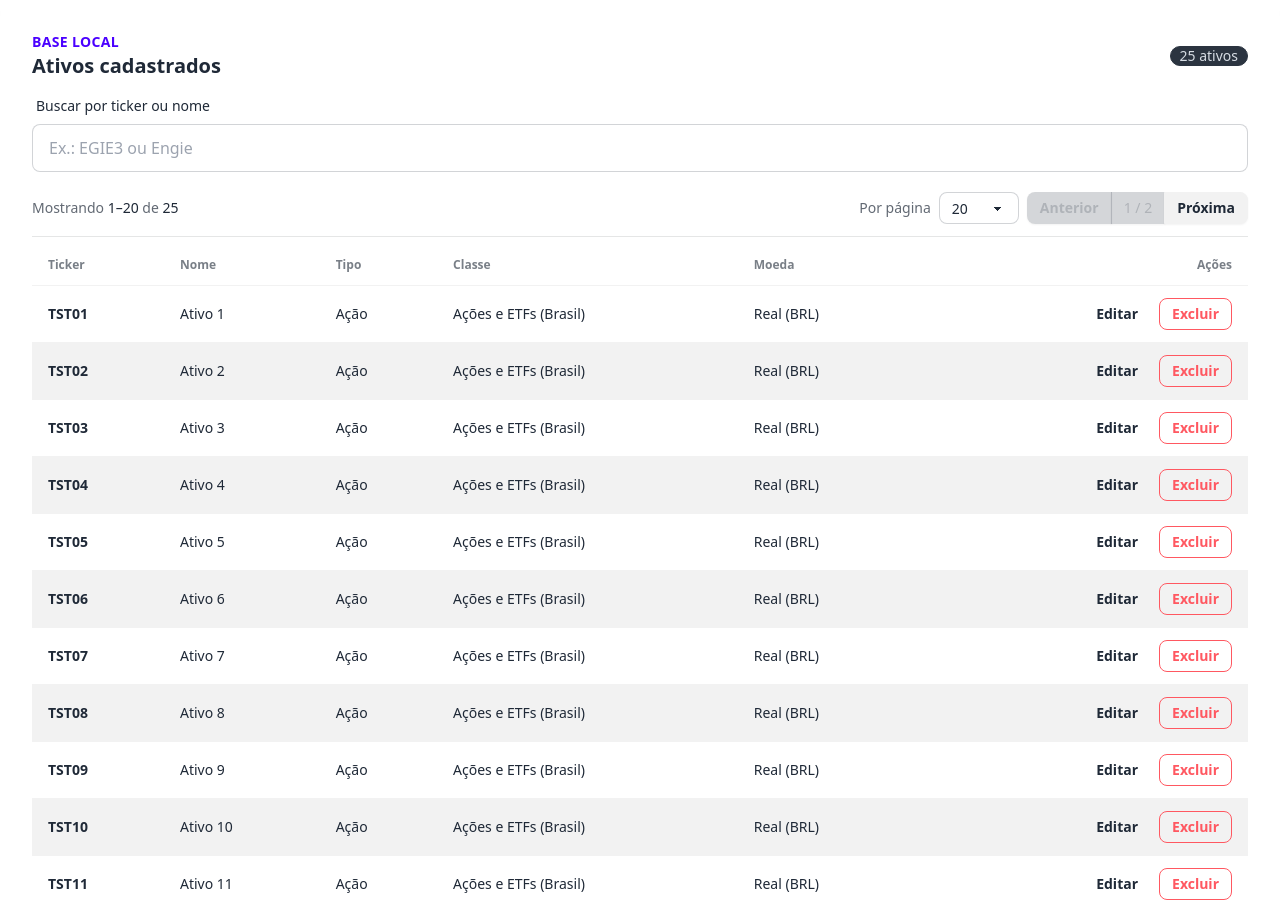
Scenario: AssetList › pagina lista com 20 itens por página
expect the text "TST01" is shown: met, box x1=32 y1=286 x2=164 y2=342
What coordinates should you click on to do the following:
click the button "Próxima"
I would click on:
 (1206, 208)
Its box is x1=1164 y1=192 x2=1248 y2=224.
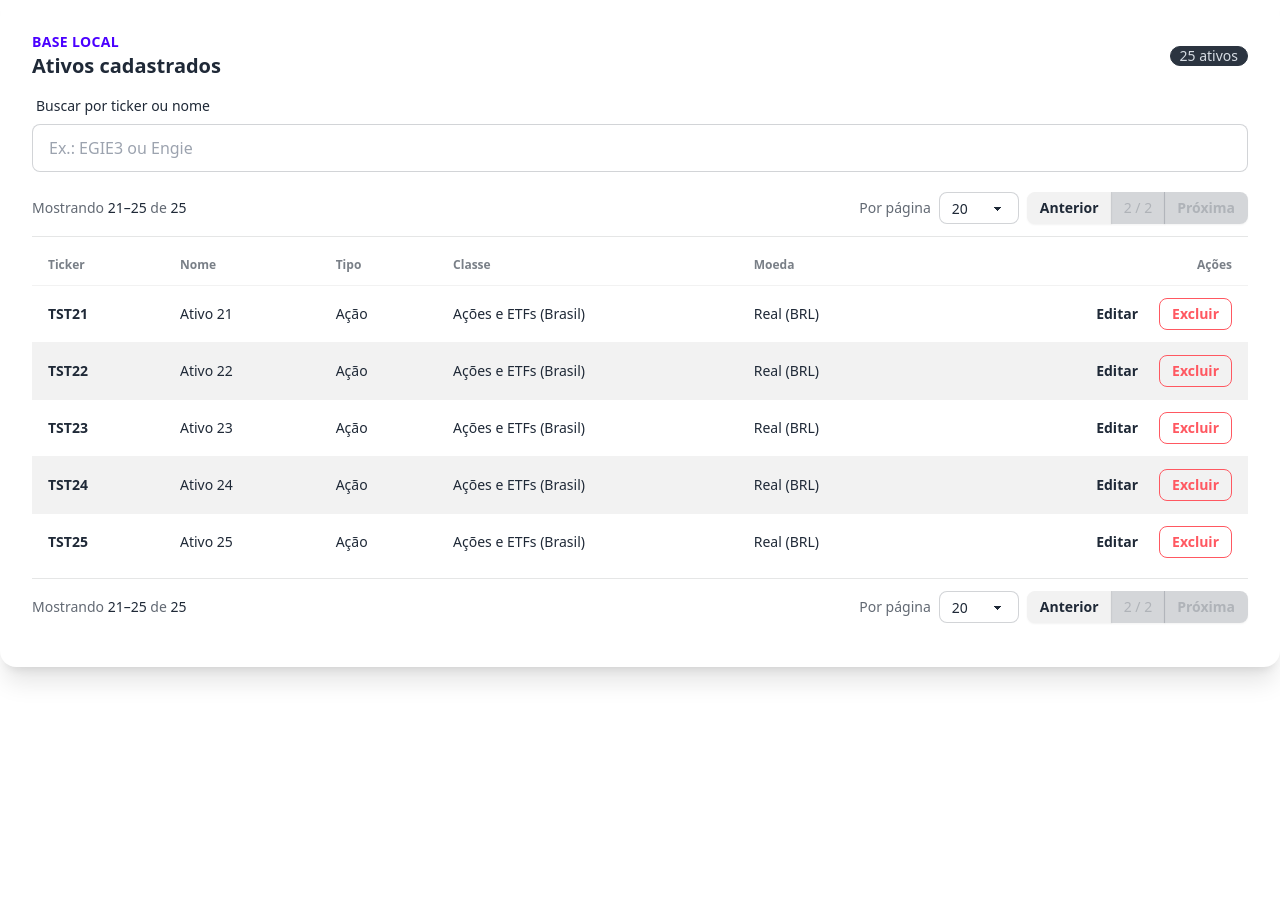
expect the text "TST21" is shown: met, box x1=32 y1=286 x2=164 y2=342
expect the text "TST01" is gone: met
